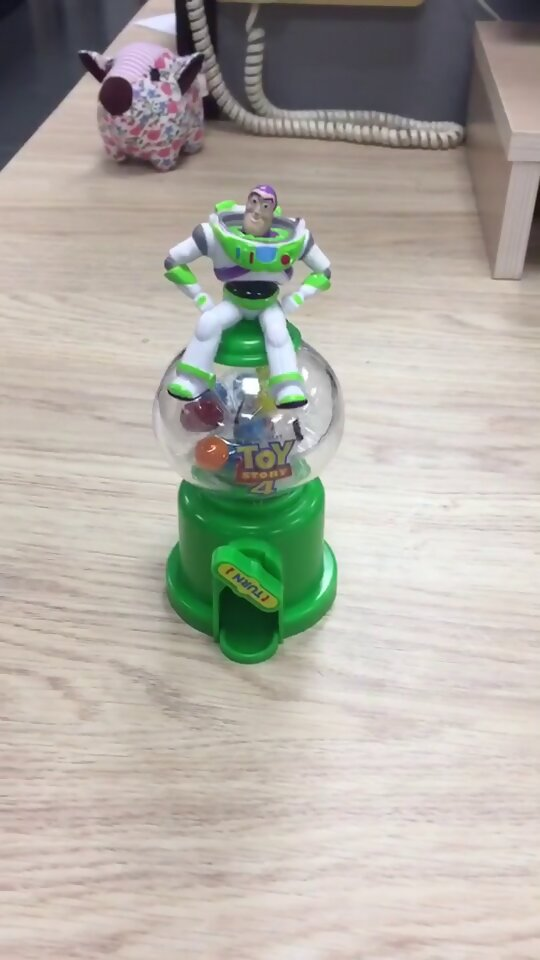buzz: (143, 177, 350, 672)
